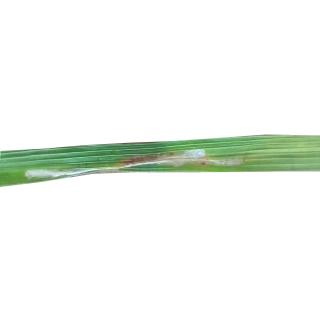Hawar-Daun: (157, 146, 206, 168), (27, 165, 96, 175), (121, 153, 158, 170), (203, 160, 247, 168)
